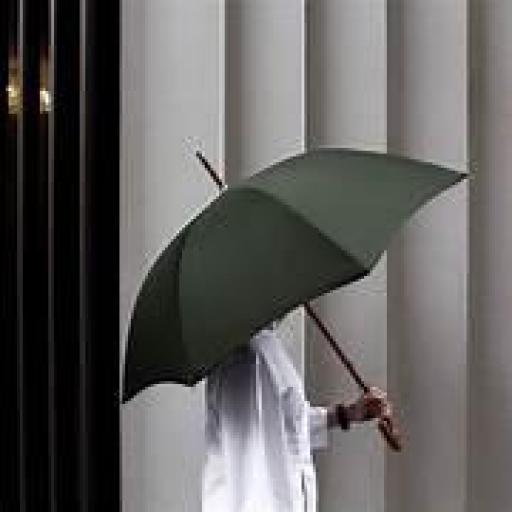guarda_chuva: (119, 137, 469, 450)
